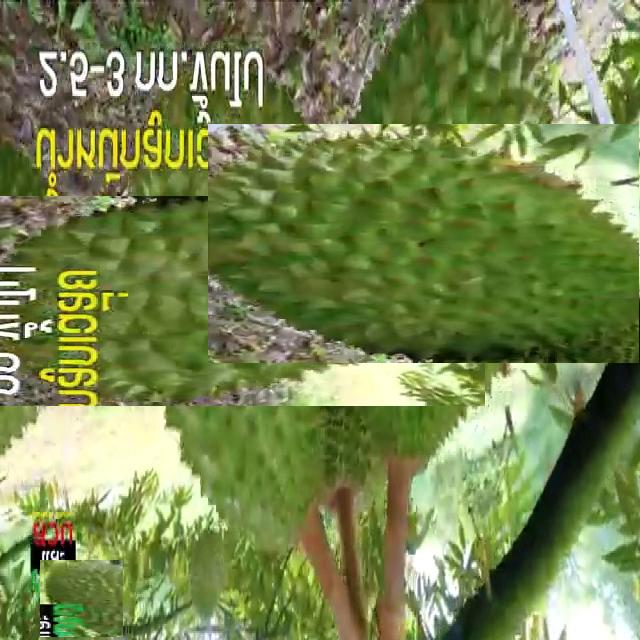durian: (48, 121, 410, 481), (268, 63, 627, 423), (0, 196, 136, 399), (41, 558, 122, 638), (188, 526, 230, 618)
